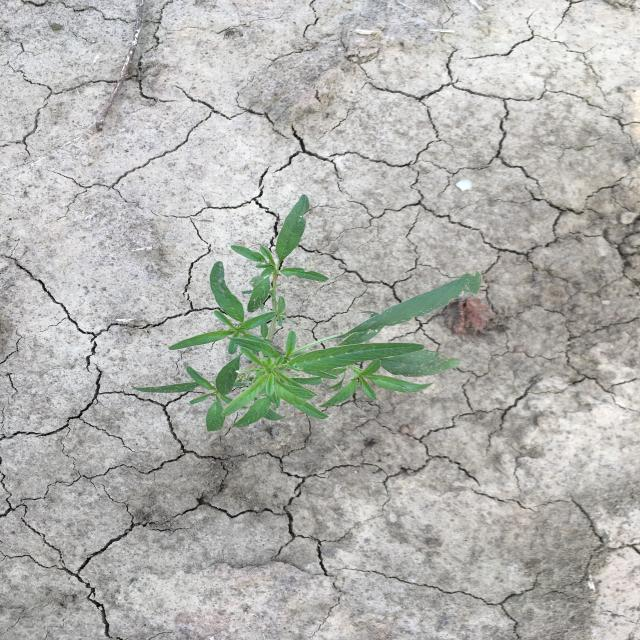Waterhemp: (129, 193, 485, 433)
